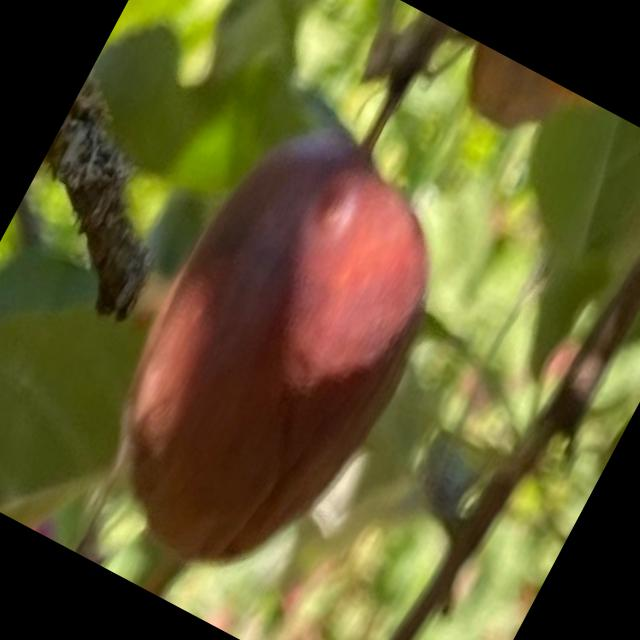Apples: (64, 96, 494, 607)
